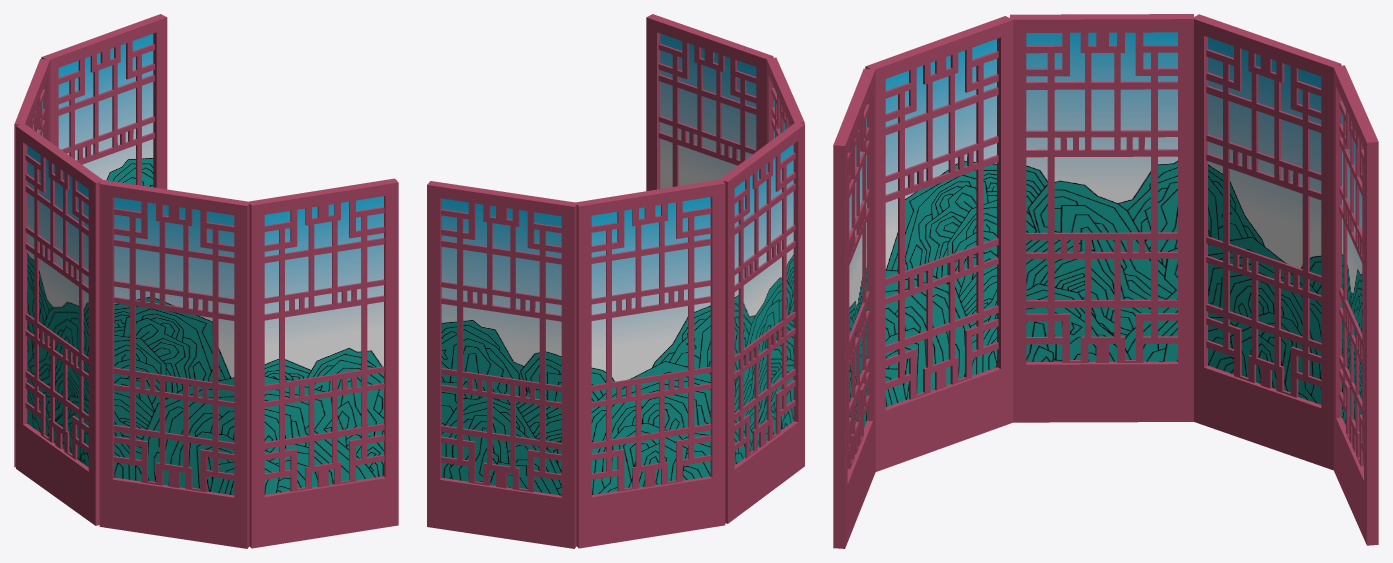
The model's file is byungpung_round.fbx.
3 renders of one model, left to right at view 1: azimuth 30°, elevation 25°; view 2: azimuth 150°, elevation 25°; view 3: azimuth 270°, elevation 25°, orthographic. The views are drawn at different scales.
Visible parts, largest first — view 1: byungpung_round; view 2: byungpung_round; view 3: byungpung_round.
Part boxes in pixels (bbox=[...]): byungpung_round: bbox=[14, 14, 398, 548]; byungpung_round: bbox=[427, 14, 804, 548]; byungpung_round: bbox=[833, 14, 1378, 548].
Size of the model in its own units: 484 by 688 by 845.
